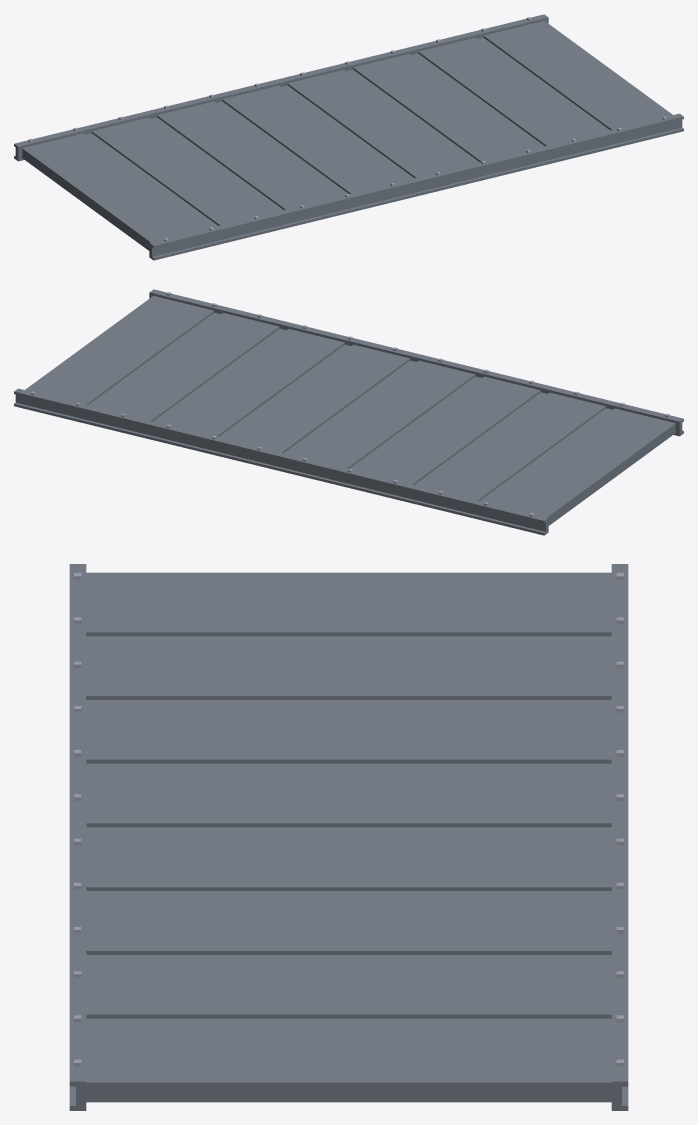
File: Board01_002.fbx
3 views of the same model, one above another, from view 1: azimuth 30°, elevation 25°; view 2: azimuth 150°, elevation 25°; view 3: azimuth 270°, elevation 25° (orthographic). The views are drawn at different scales.
Parts seen in each view (by area): view 1: Board01.002; view 2: Board01.002; view 3: Board01.002.
Part boxes in pixels (x1=…): Board01.002: x1=14, y1=14, x2=683, y2=260; Board01.002: x1=14, y1=289, x2=683, y2=535; Board01.002: x1=69, y1=564, x2=628, y2=1110.
Size of the model in its own units: 2.03 by 0.0604 by 0.9266.
